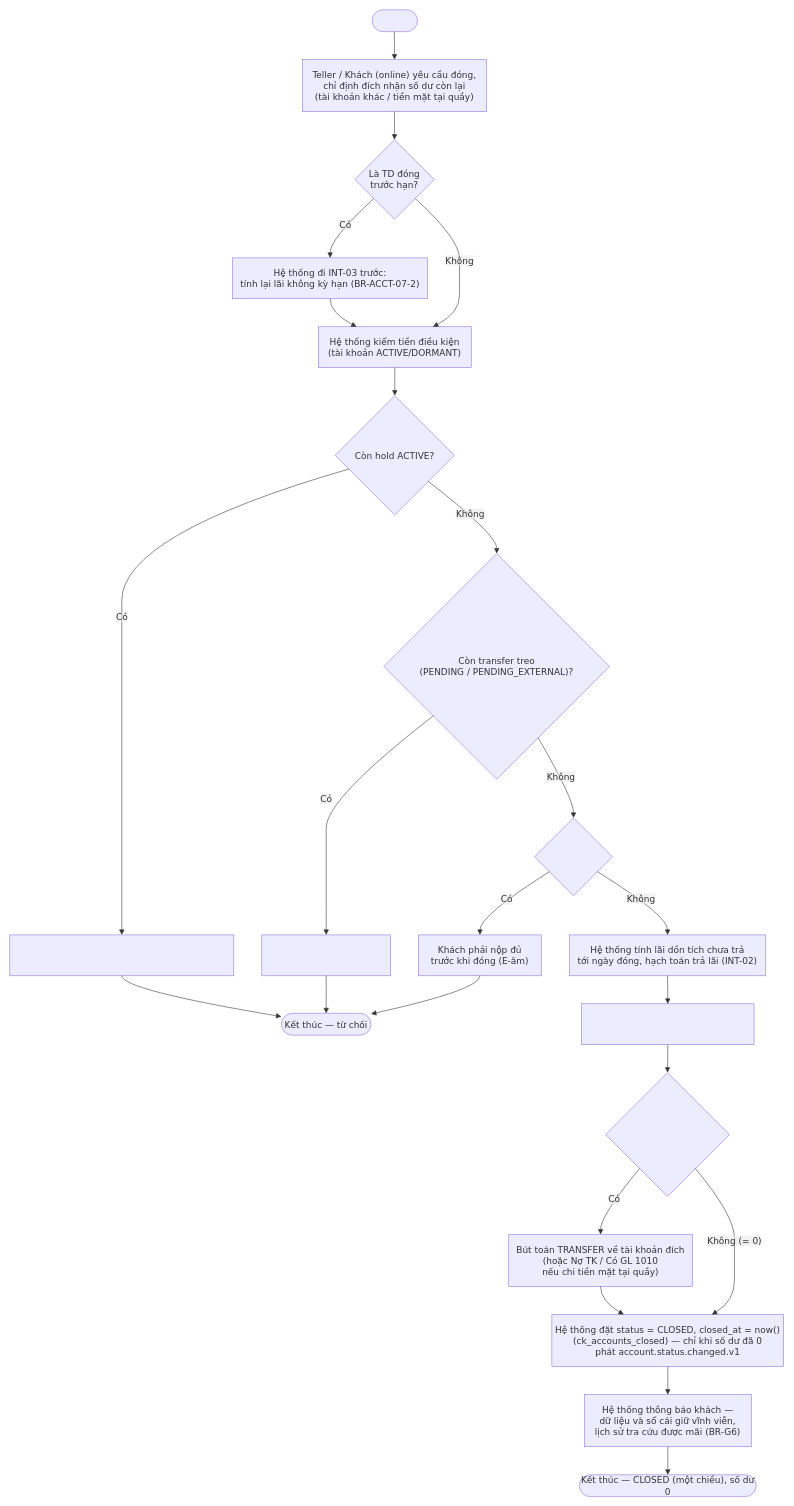
Image size: 794x1506. Some labels were removed from this diagram. Each missing label, with the centre of its shape:
"Bắt đầu" belongs at point (394, 20).
"Hệ thống thu phí ACCOUNT_CLOSE nếu biểu phí có (FEE-01)" belongs at point (667, 1024).
"Hệ thống từ chối, chờ saga kết thúc (E2b)" belongs at point (326, 955).
"Hệ thống từ chối, liệt kê hold — hold LEGAL phải gỡ trước mới đóng được (E2a)" belongs at point (121, 955).
"Số dư < 0 (thấu chi)?" belongs at point (573, 856).
"Số dư còn lại > 0?" belongs at point (667, 1134).
